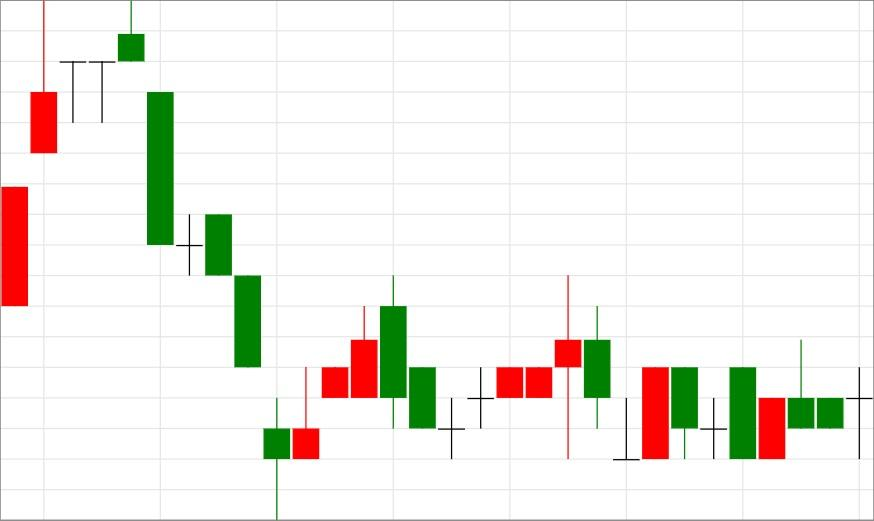bearish_engulfing_fall: (263, 275, 408, 520)
inverse_hammer_rise: (118, 0, 320, 521)
